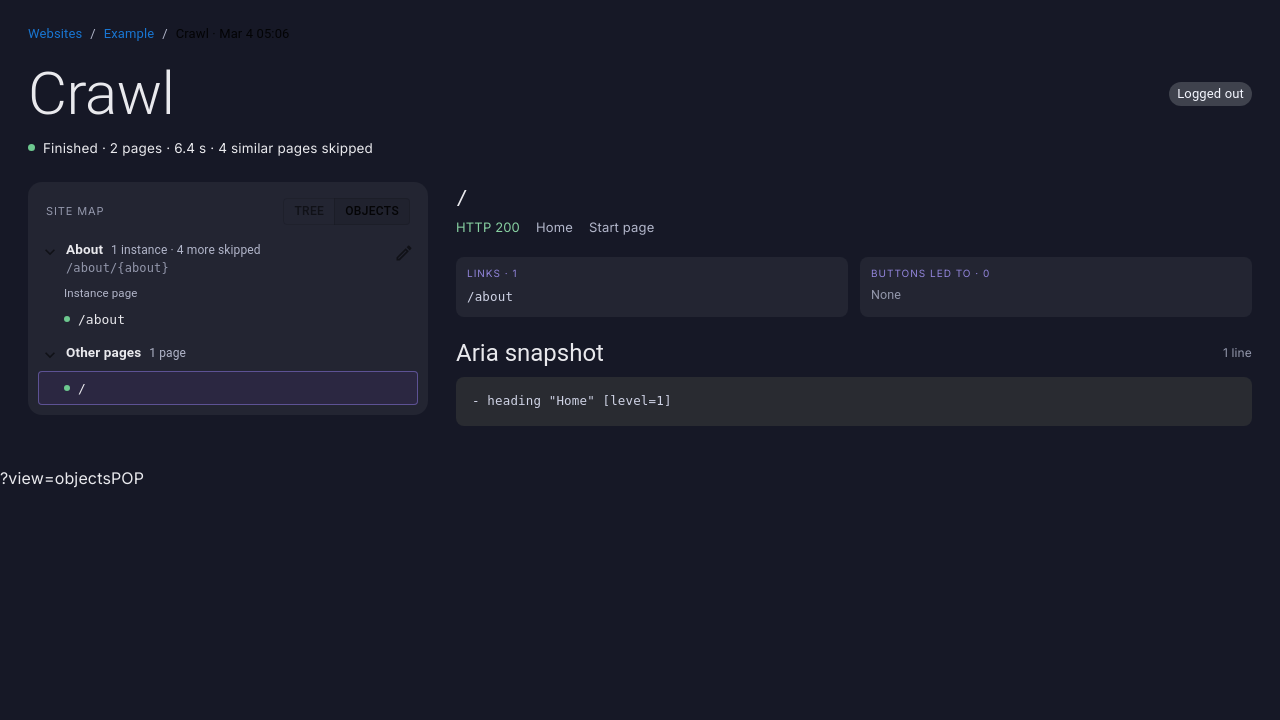
CrawlRunPage's Objects view › keeps the dialog open with the server's reason when the rename fails
What coordinates should you click on to do the following:
click the button named "Rename About"
I would click on:
 (404, 253)
Its box is top-left (390, 239), bottom-right (418, 267).
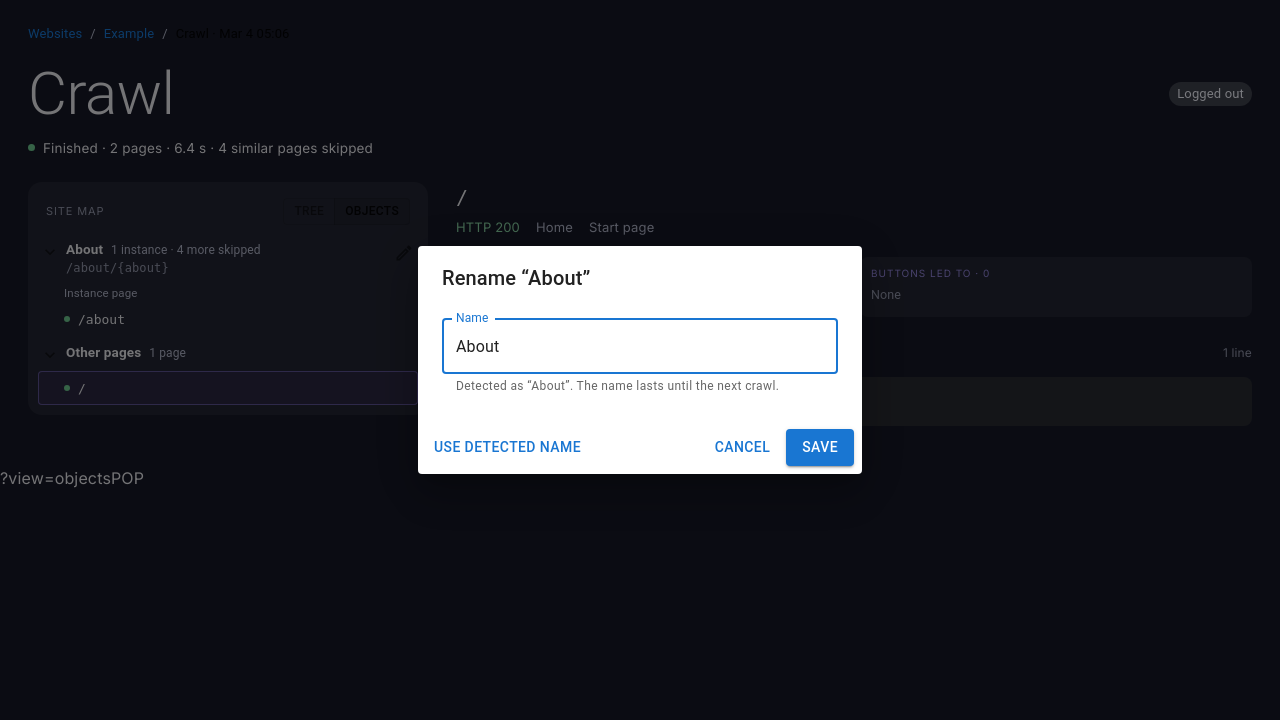
What coordinates should you click on to do the following:
click the button "Use detected name"
I would click on:
 (508, 447)
Its box is top-left (426, 429), bottom-right (589, 466).
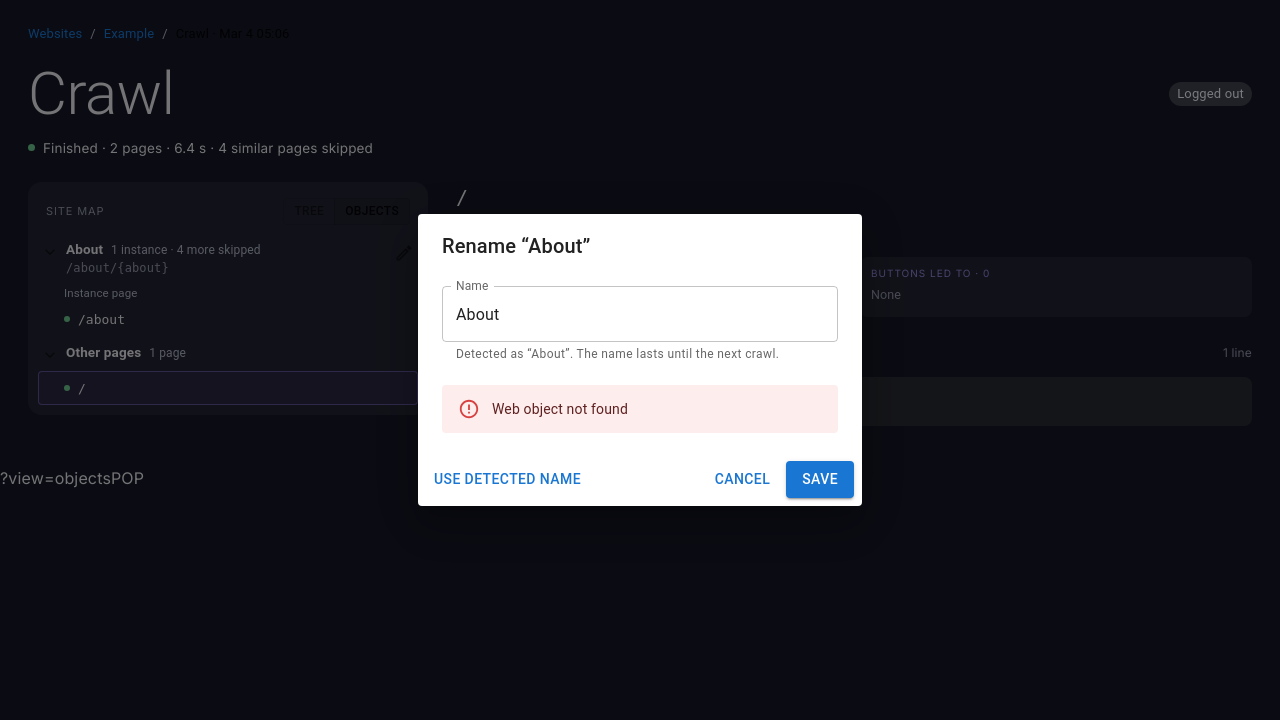
Result: the dialog is shown at top-left (418, 214), bottom-right (862, 506)
Result: the text "Web object not found" is shown at top-left (492, 401), bottom-right (628, 417)
